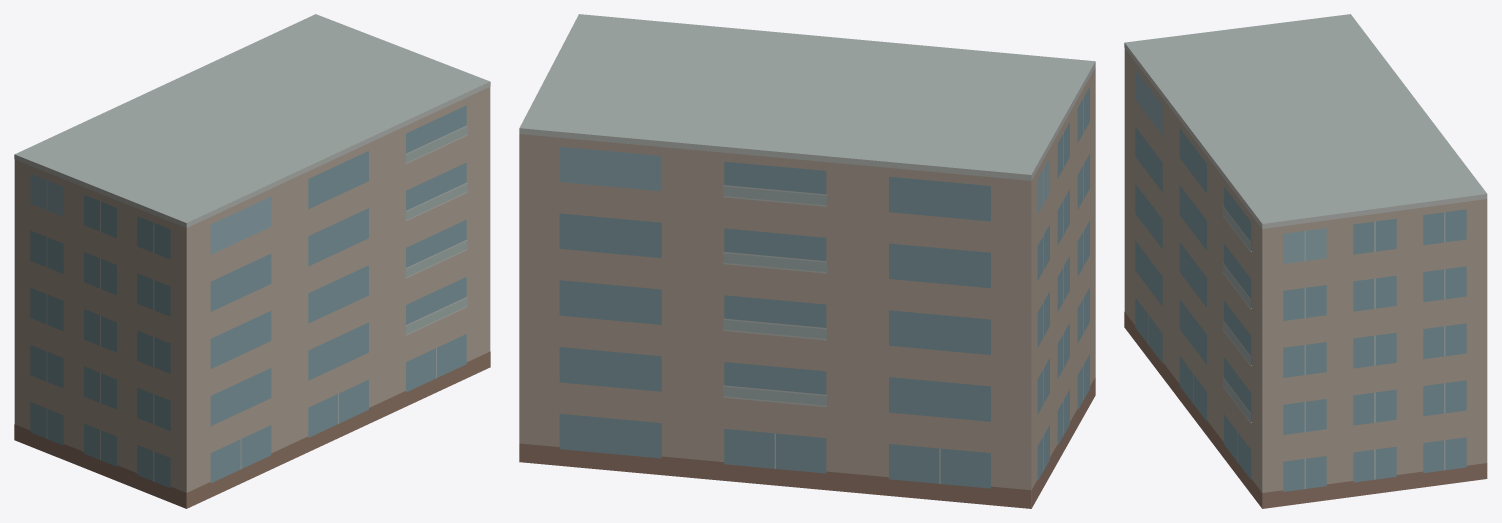
Rendered from survey-upis-32656362.glb.
3 renders of one model, left to right at view 1: azimuth 30°, elevation 25°; view 2: azimuth 150°, elevation 25°; view 3: azimuth 270°, elevation 25°, orthographic. The views are drawn at different scales.
Visible parts, largest first — view 1: survey-upis-32656362.tmp; view 2: survey-upis-32656362.tmp; view 3: survey-upis-32656362.tmp.
Boxes of the visible parts, bbox=[...] form: survey-upis-32656362.tmp: bbox=[14, 14, 490, 508]; survey-upis-32656362.tmp: bbox=[519, 14, 1095, 508]; survey-upis-32656362.tmp: bbox=[1124, 14, 1487, 508].
Size of the model in its own units: 21.9 by 13.85 by 16.
